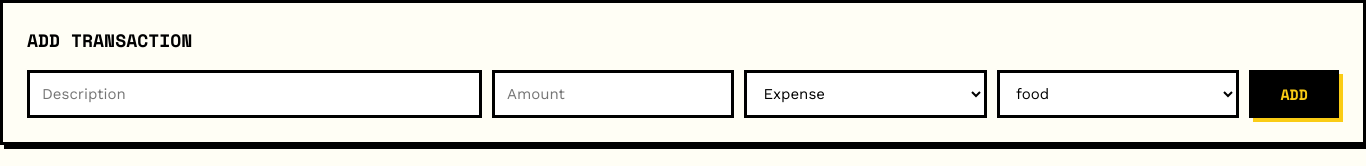
it: AddTransaction › clears the form after submit
This screenshot has width=1366, height=166.
Step 1. Type "Coffee" into the field with placeholder "Description" → [254, 94], box [27,70,482,118]
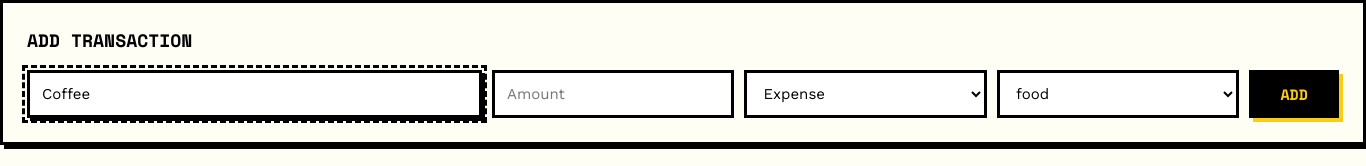
Step 2. Type "5" into the number field with placeholder "Amount" → [613, 94], box [492,70,734,118]
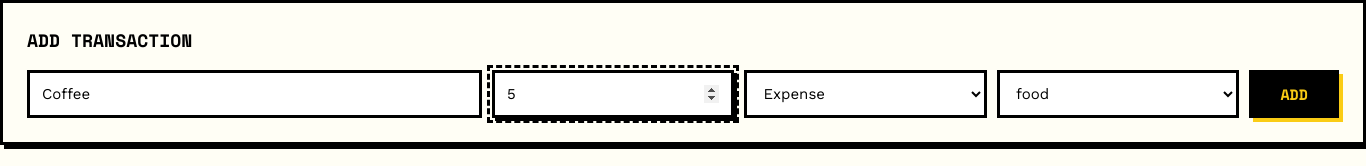
Step 3. Click the button "Add" → [1294, 94], box [1249,70,1339,118]
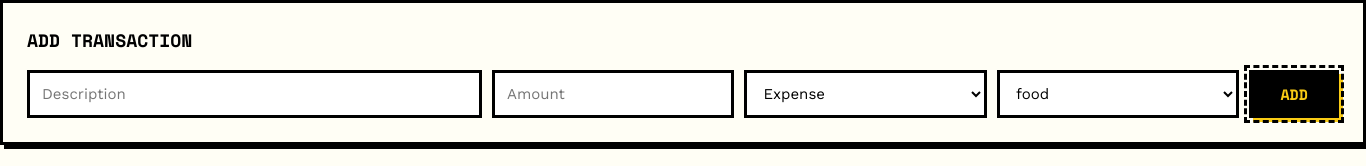
Now the field with placeholder "Description" is empty, box [27,70,482,118]
Now the number field with placeholder "Amount" is not empty, box [492,70,734,118]
